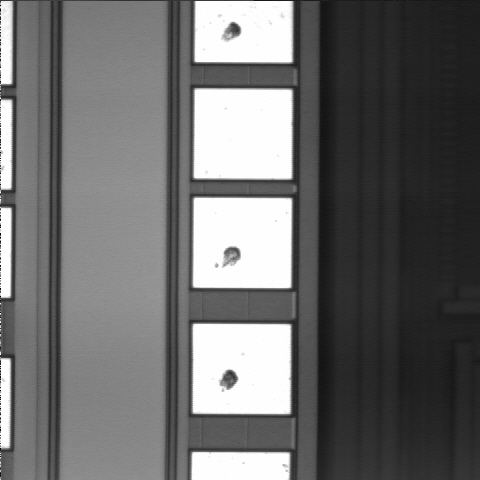pad: (193, 198, 292, 288), (194, 89, 292, 179), (193, 324, 291, 414)
